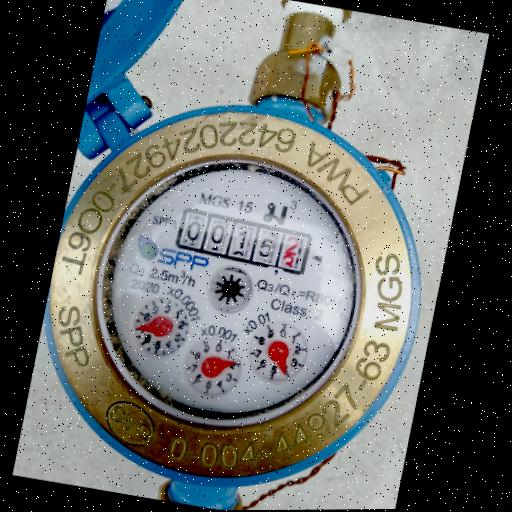0: (182, 214, 205, 246), (206, 219, 229, 251)
1: (230, 224, 254, 258)
2: (279, 233, 304, 268)
5: (255, 229, 279, 263)
border_water_meter_number: (171, 205, 314, 277)
